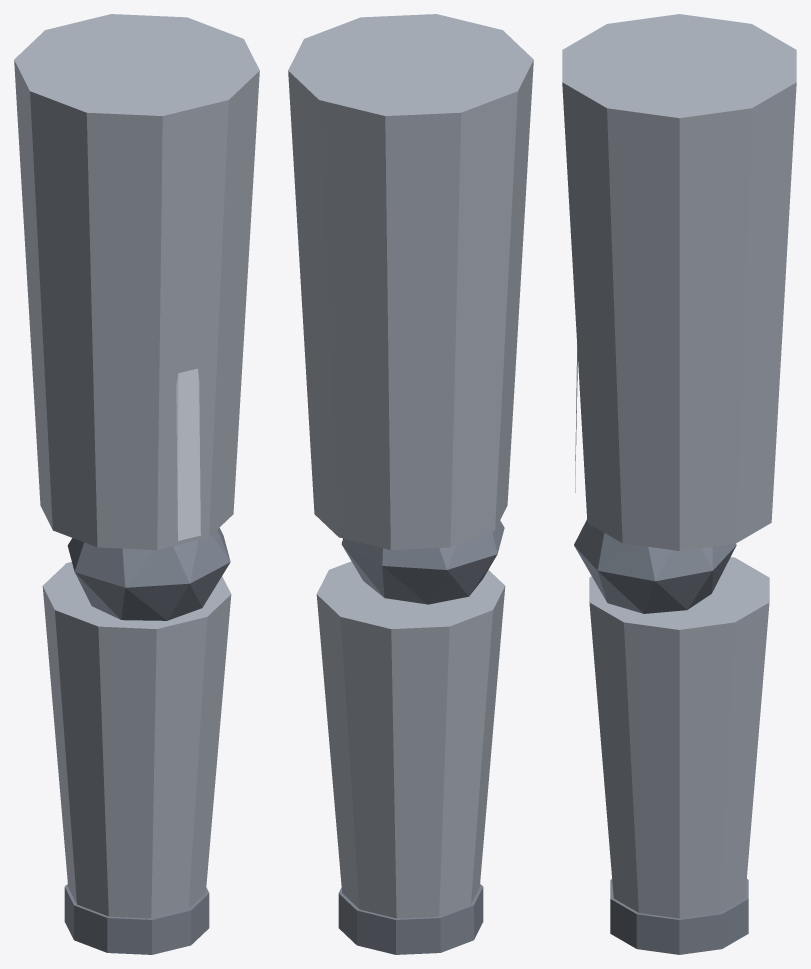
The model's file is gear_steel_legs_leg_l.glb.
3 renders of one model, left to right at view 1: azimuth 30°, elevation 25°; view 2: azimuth 150°, elevation 25°; view 3: azimuth 270°, elevation 25°, orthographic.
Parts seen in each view (by area): view 1: gear_steel_legs_leg_l; view 2: gear_steel_legs_leg_l; view 3: gear_steel_legs_leg_l.
Boxes of the visible parts, bbox=[...] form: gear_steel_legs_leg_l: bbox=[14, 14, 259, 954]; gear_steel_legs_leg_l: bbox=[288, 14, 533, 954]; gear_steel_legs_leg_l: bbox=[562, 14, 796, 954].
Bounding box in the file's own units: 0.224 × 0.86 × 0.213.
